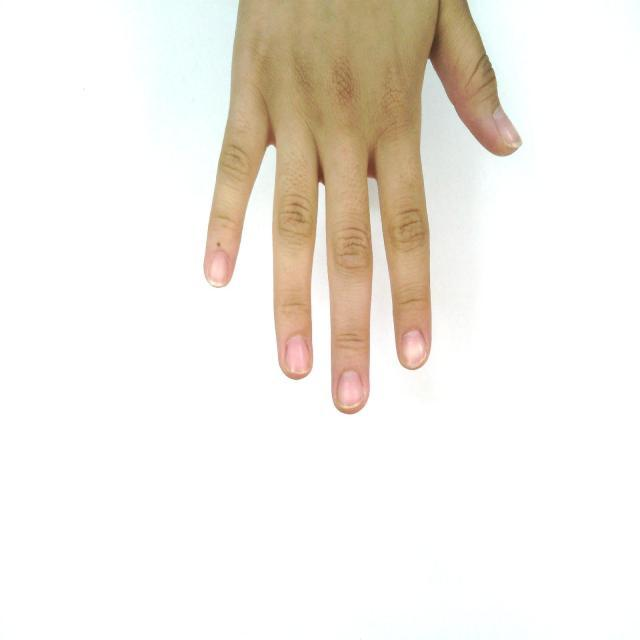Fingernail: (494, 106, 522, 147), (337, 370, 365, 408), (402, 331, 427, 368), (286, 336, 310, 374), (208, 251, 230, 286)
